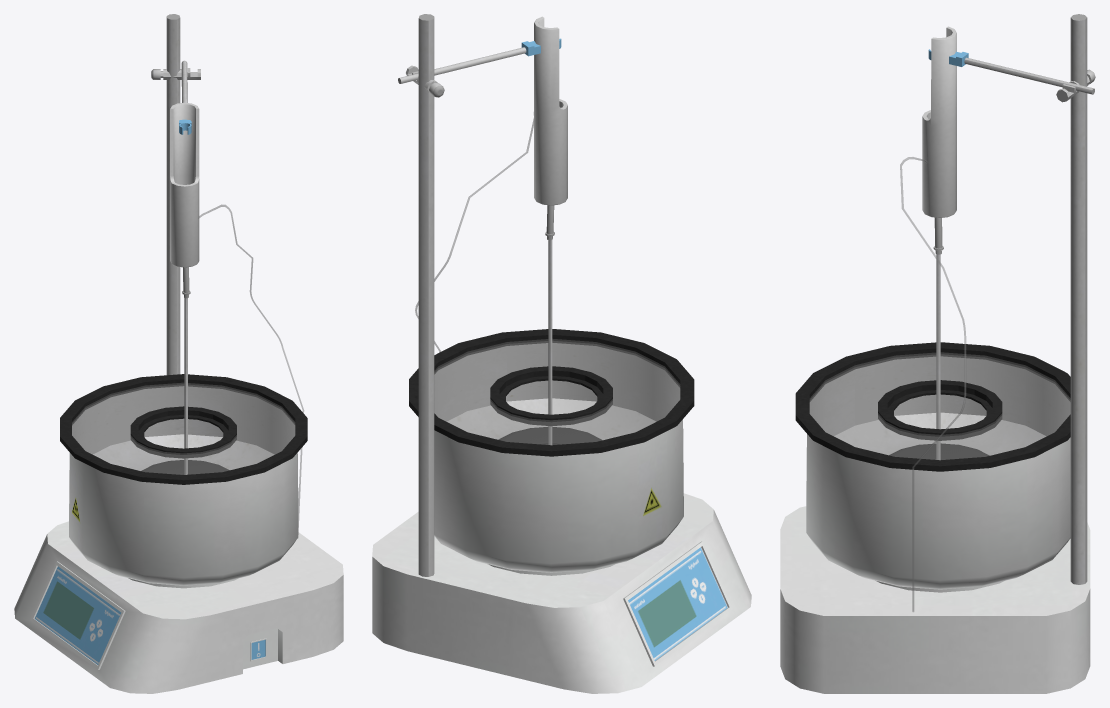
The model's file is SM_磁力搅拌水浴锅.fbx.
3 renders of one model, left to right at view 1: azimuth 30°, elevation 25°; view 2: azimuth 150°, elevation 25°; view 3: azimuth 270°, elevation 25°, orthographic. The views are drawn at different scales.
Parts seen in each view (by area): view 1: SM_磁力搅拌水浴锅_主体, SM_磁力搅拌水浴锅_固定架, SM_磁力搅拌水浴锅_搅拌状态探针; view 2: SM_磁力搅拌水浴锅_主体, SM_磁力搅拌水浴锅_固定架, SM_磁力搅拌水浴锅_搅拌状态探针; view 3: SM_磁力搅拌水浴锅_主体, SM_磁力搅拌水浴锅_固定架, SM_磁力搅拌水浴锅_搅拌状态探针.
Part boxes in pixels (left/top/right/bottom): SM_磁力搅拌水浴锅_主体: left=14, top=14, right=343, bottom=693; SM_磁力搅拌水浴锅_固定架: left=151, top=60, right=200, bottom=267; SM_磁力搅拌水浴锅_搅拌状态探针: left=182, top=204, right=304, bottom=534; SM_磁力搅拌水浴锅_主体: left=372, top=14, right=751, bottom=693; SM_磁力搅拌水浴锅_固定架: left=398, top=16, right=567, bottom=205; SM_磁力搅拌水浴锅_搅拌状态探针: left=415, top=112, right=554, bottom=445; SM_磁力搅拌水浴锅_主体: left=780, top=14, right=1090, bottom=693; SM_磁力搅拌水浴锅_固定架: left=922, top=26, right=1095, bottom=217; SM_磁力搅拌水浴锅_搅拌状态探针: left=900, top=157, right=966, bottom=611.
Size of the model in its own units: 247 by 561 by 248.
